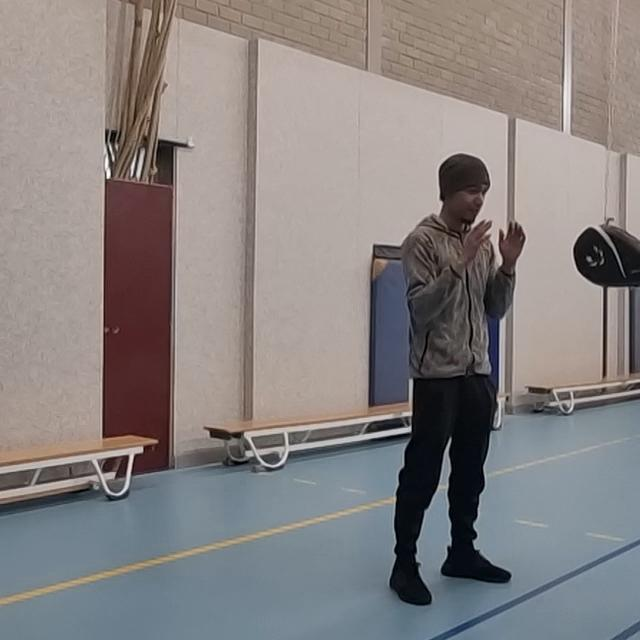paddle: (571, 222, 640, 291)
